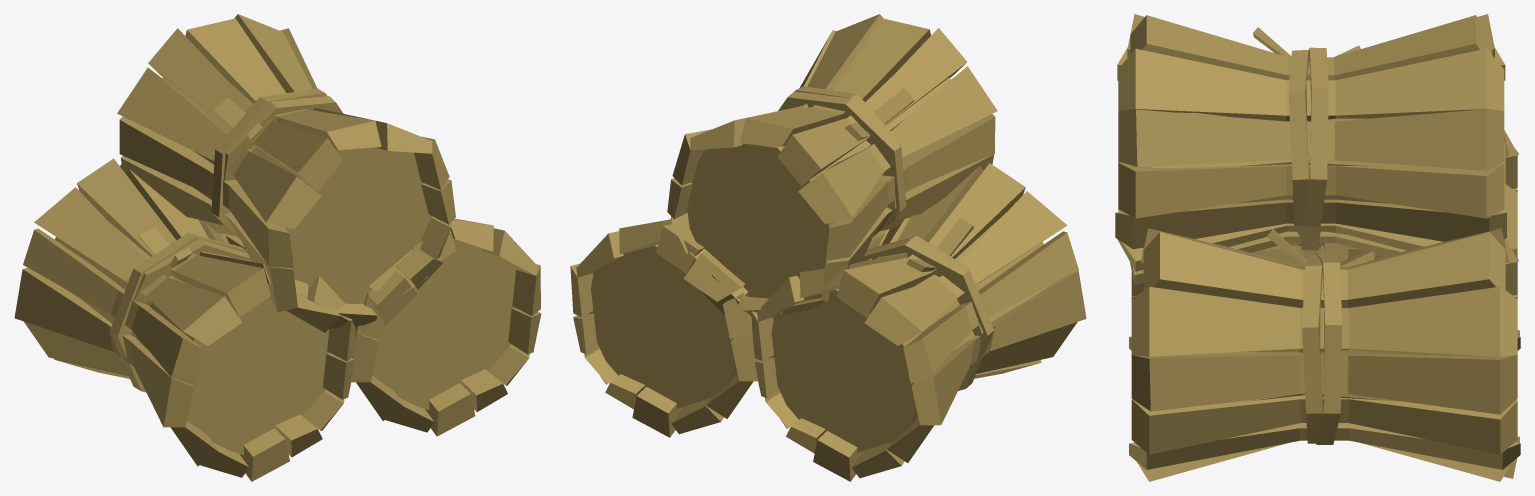
The model's file is heno.glb.
3 views of the same model, side by side, from view 1: azimuth 30°, elevation 25°; view 2: azimuth 150°, elevation 25°; view 3: azimuth 270°, elevation 25° (orthographic). The views are drawn at different scales.
Parts seen in each view (by area): view 1: Hay_Plane.010 (×3); view 2: Hay_Plane.010 (×3); view 3: Hay_Plane.010 (×3).
Part boxes in pixels (x1=…): Hay_Plane.010 (×3): x1=14, y1=14, x2=541, y2=481; Hay_Plane.010 (×3): x1=570, y1=14, x2=1086, y2=481; Hay_Plane.010 (×3): x1=1115, y1=14, x2=1520, y2=481.
Bounding box in the file's own units: 1.15 × 0.9596 × 0.9.
